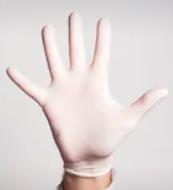down: (2, 9, 170, 162)
